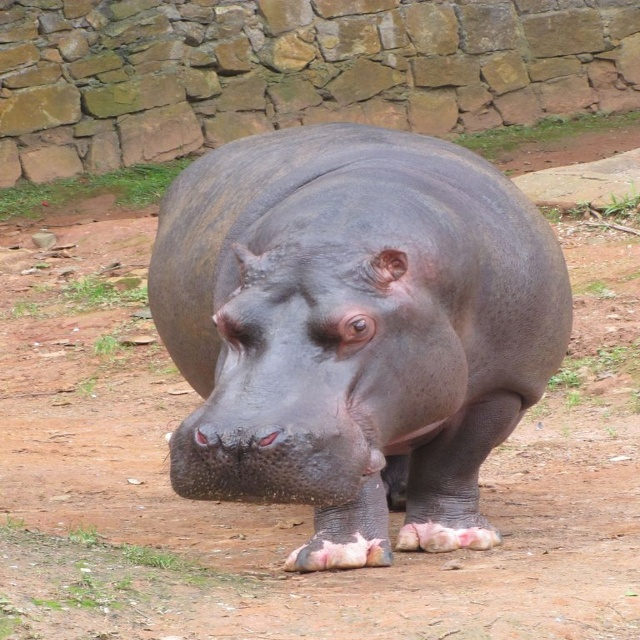Hippopotamus: (147, 121, 573, 572)
